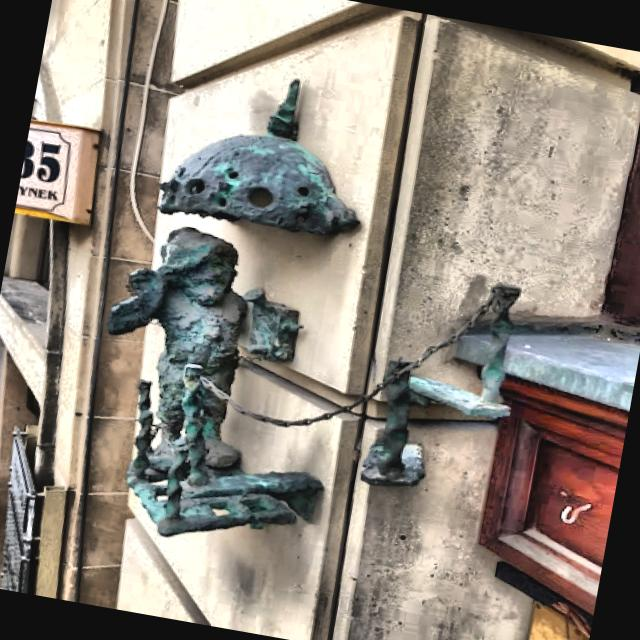Dryndek: (107, 81, 358, 535)
